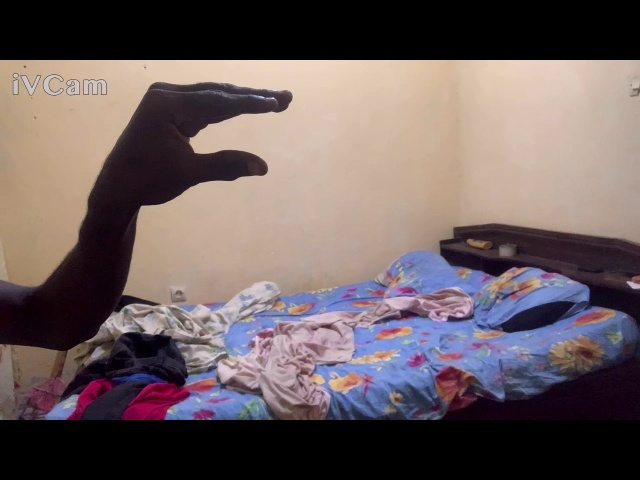non: (124, 79, 303, 204)
